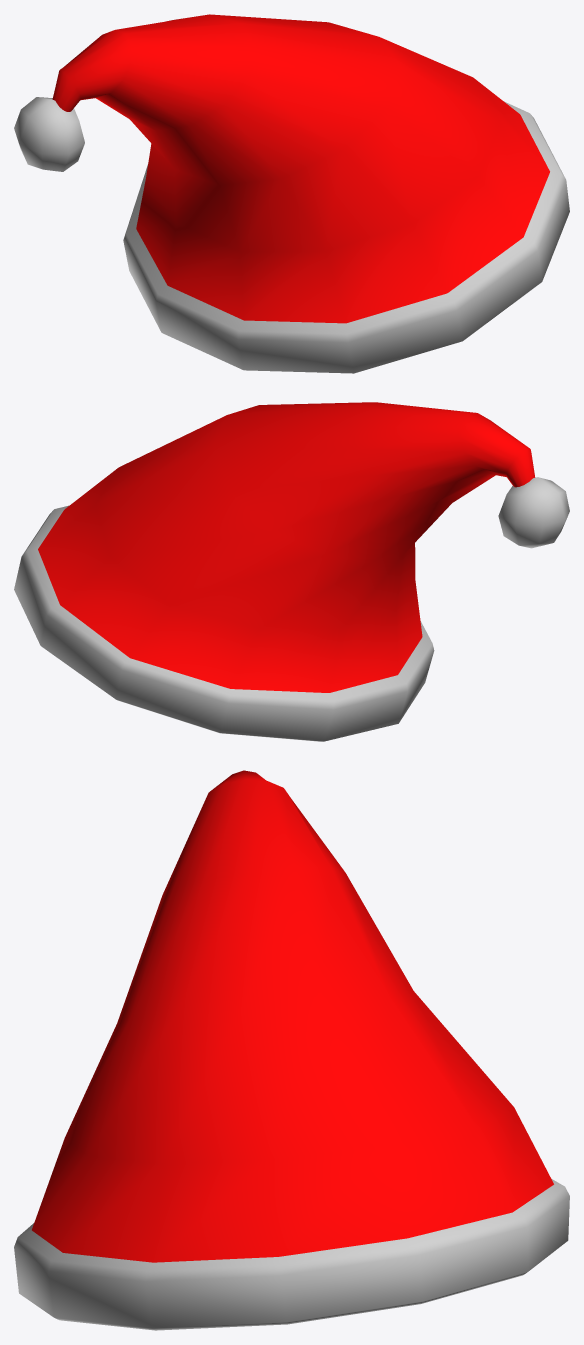
File: christmas_basic.obj
3 views of the same model, one above another, from view 1: azimuth 30°, elevation 25°; view 2: azimuth 150°, elevation 25°; view 3: azimuth 270°, elevation 25° (orthographic). The views are drawn at different scales.
Visible parts, largest first — view 1: 1, 0; view 2: 1, 0; view 3: 1, 0.
Part boxes in pixels (x1,y1,x2,y2): 1: [52, 14, 549, 323]; 0: [14, 97, 569, 373]; 1: [38, 402, 535, 692]; 0: [14, 477, 569, 741]; 1: [32, 770, 553, 1262]; 0: [14, 1179, 569, 1330].
Bounding box in the file's own units: 0.5956 × 0.3522 × 0.4379.
